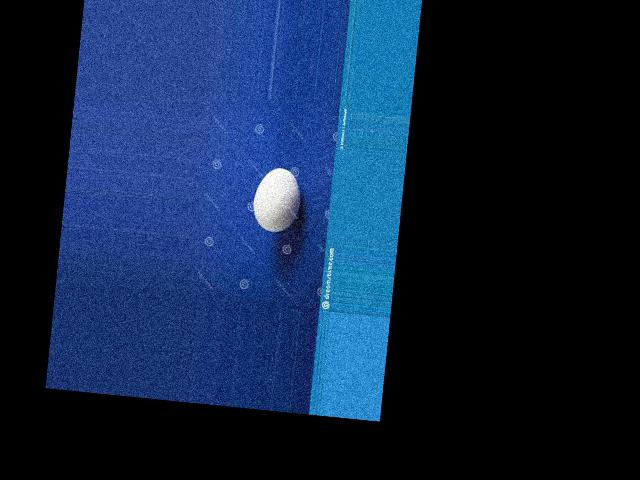egg: (251, 165, 303, 234)
